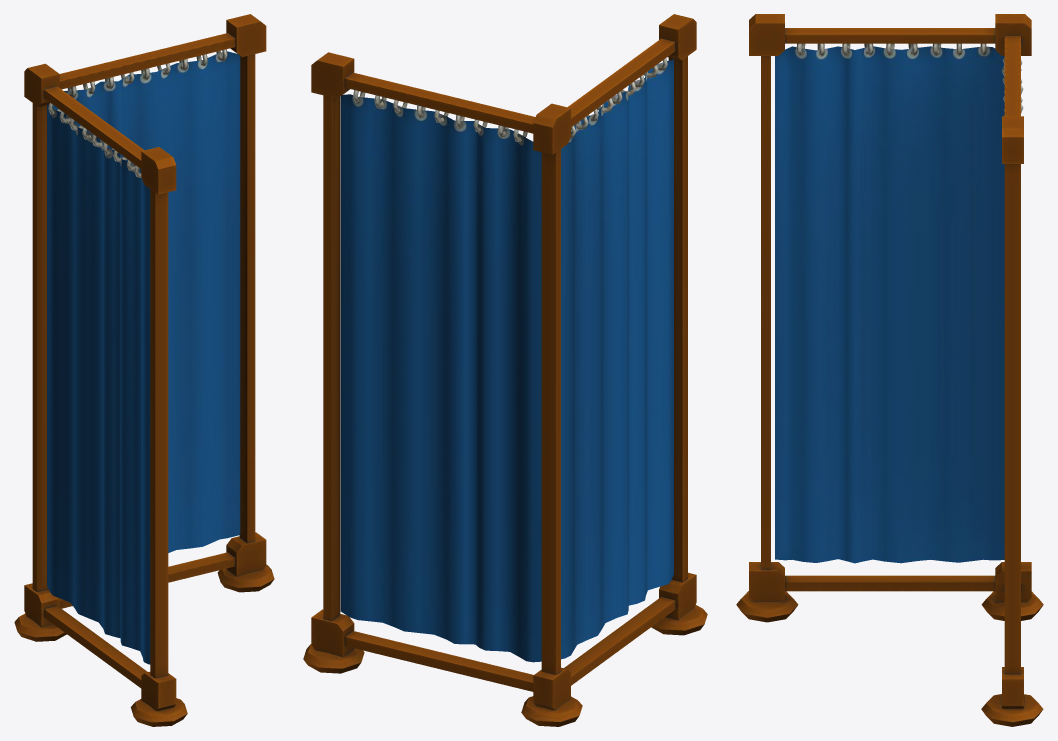
The model's file is dressingScreen.fbx.
3 renders of one model, left to right at view 1: azimuth 30°, elevation 25°; view 2: azimuth 150°, elevation 25°; view 3: azimuth 270°, elevation 25°, orthographic. The views are drawn at different scales.
Visible parts, largest first — view 1: dressingScreen; view 2: dressingScreen; view 3: dressingScreen.
Part boxes in pixels (box(x1,y1,x2,y2)): dressingScreen: box(14, 14, 274, 726); dressingScreen: box(303, 14, 707, 726); dressingScreen: box(736, 14, 1043, 726).
Size of the model in its own units: 95.76 by 95.18 by 202.
